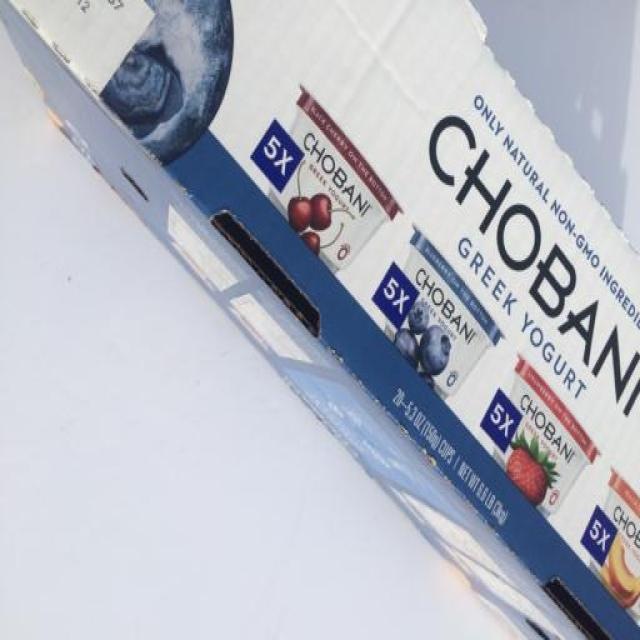cardboard: (4, 0, 640, 640)
